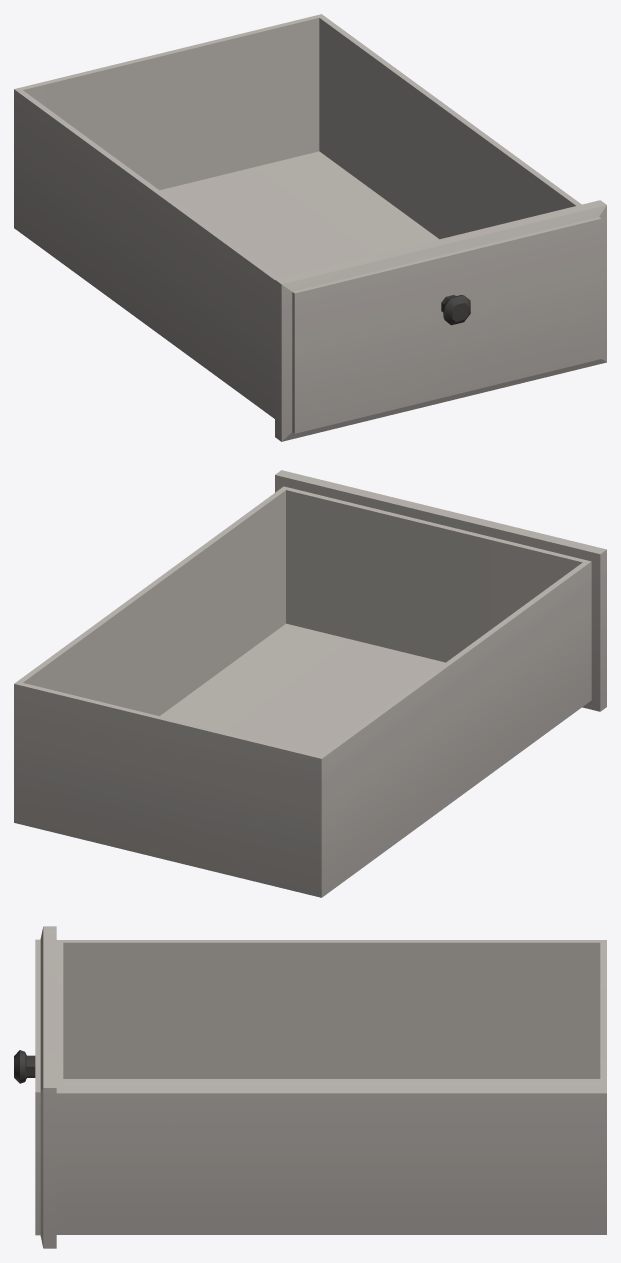
Rendered from Drawer_Unit_50cm_Medium.fbx.
3 views of the same model, one above another, from view 1: azimuth 30°, elevation 25°; view 2: azimuth 150°, elevation 25°; view 3: azimuth 270°, elevation 25° (orthographic).
Visible parts, largest first — view 1: Drawer_Unit_50cm_Medium; view 2: Drawer_Unit_50cm_Medium; view 3: Drawer_Unit_50cm_Medium.
Boxes of the visible parts, box(x1,y1,x2,y2) form: Drawer_Unit_50cm_Medium: box(14, 14, 606, 441); Drawer_Unit_50cm_Medium: box(14, 470, 606, 897); Drawer_Unit_50cm_Medium: box(14, 926, 606, 1248).
Bounding box in the file's own units: 49.19 × 22.75 × 76.11.
